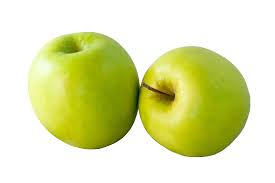apple: (30, 34, 138, 154), (140, 47, 252, 162)
